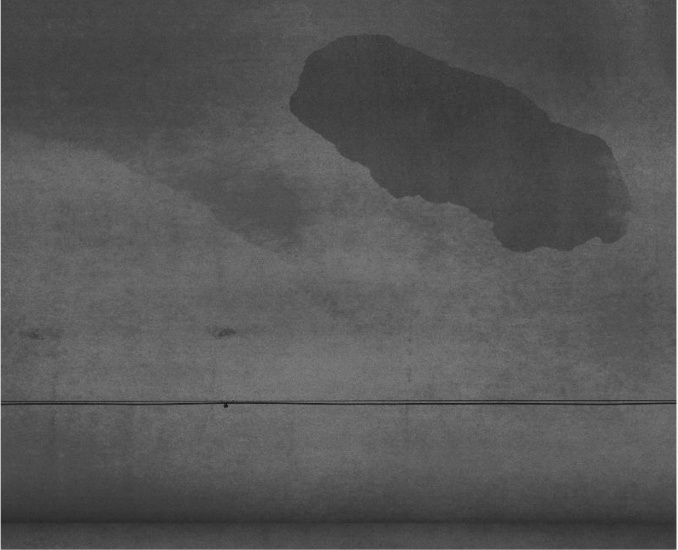渗水: (340, 45, 608, 286)
